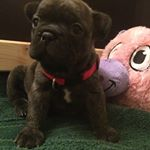puppy: (15, 1, 123, 149)
